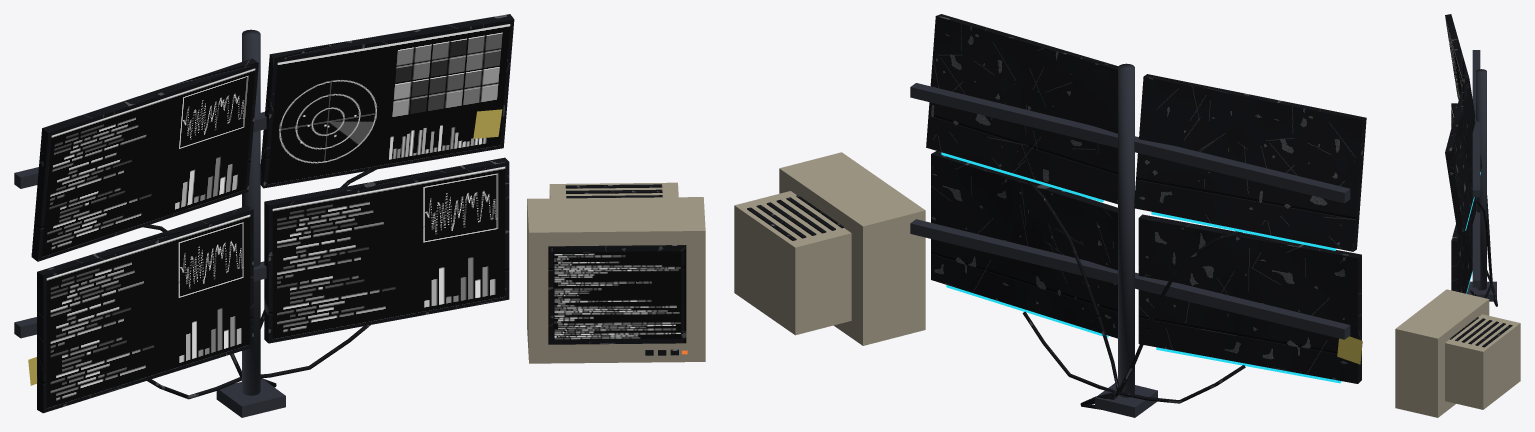
File: Tech_MonitorStack.001.gltf
The picture shows the model from 3 angles, left to right: view 1: azimuth 30°, elevation 25°; view 2: azimuth 150°, elevation 25°; view 3: azimuth 270°, elevation 25°; orthographic projection. The views are drawn at different scales.
Visible parts, largest first — view 1: Tech_MonitorStack.001; view 2: Tech_MonitorStack.001; view 3: Tech_MonitorStack.001.
Boxes of the visible parts, x1=… form: Tech_MonitorStack.001: x1=14, y1=14, x2=705, y2=417; Tech_MonitorStack.001: x1=734, y1=14, x2=1366, y2=417; Tech_MonitorStack.001: x1=1395, y1=14, x2=1520, y2=417.
Bounding box in the file's own units: 1.83 × 0.9696 × 0.4899.
9 materials, 4 textured.
